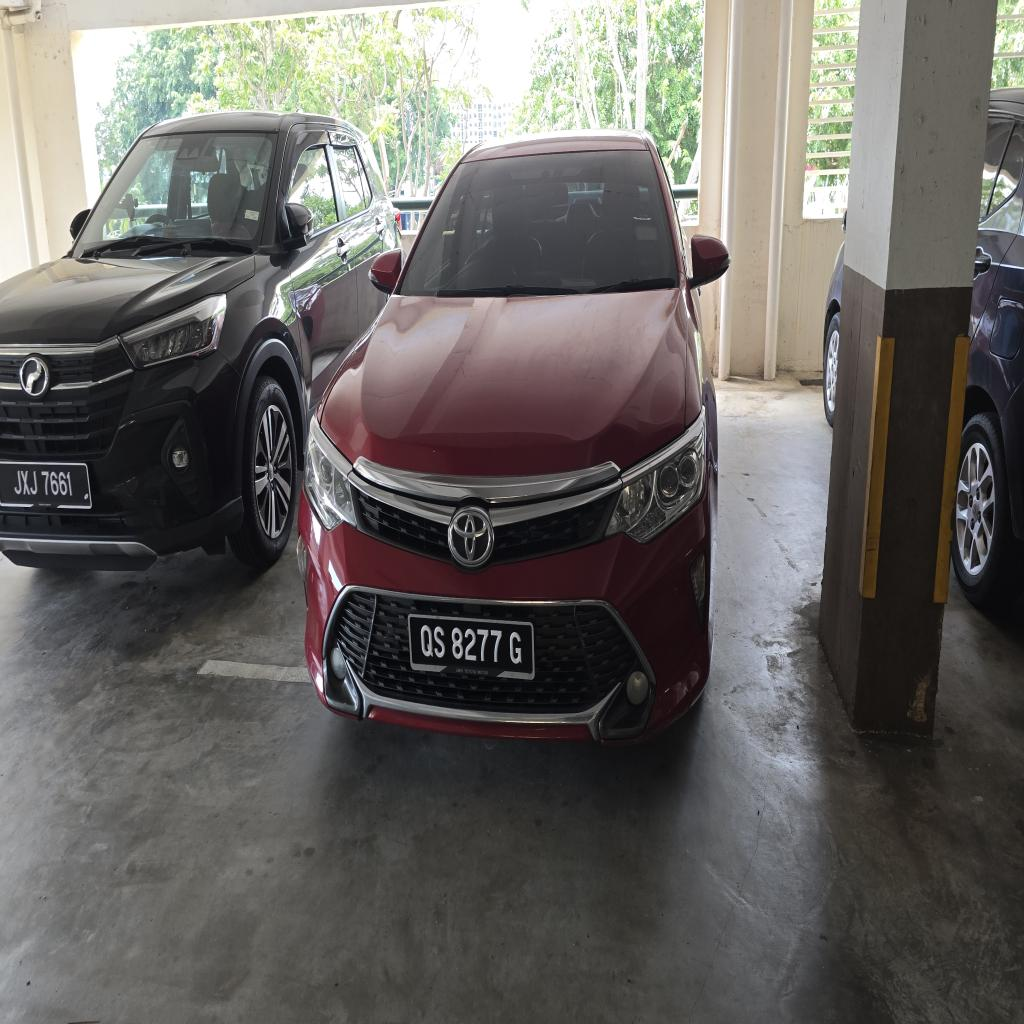car: (299, 133, 728, 740), (0, 112, 397, 568)
car plate: (408, 615, 534, 679), (0, 462, 91, 509)
